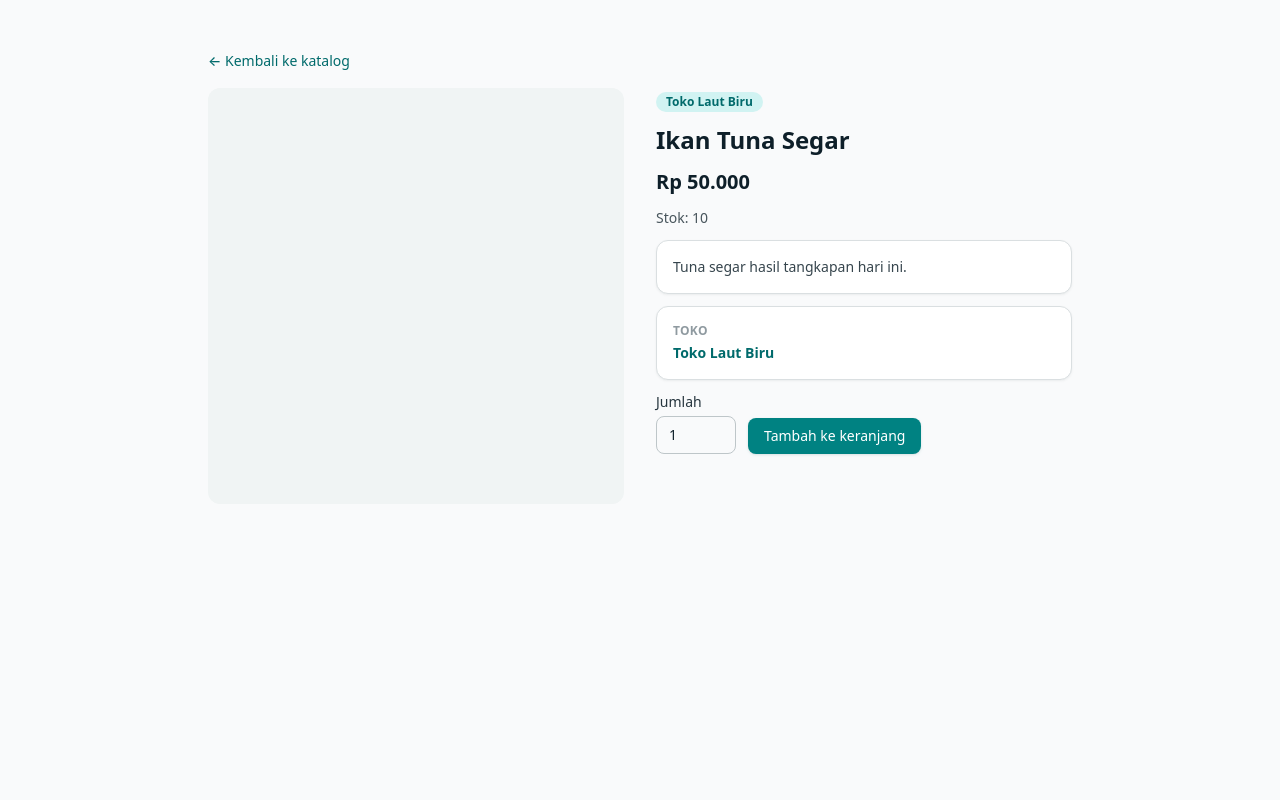
Test: ProductDetail add-to-cart store-conflict dialog › opens the "kosongkan keranjang" modal when adding to cart returns 409 CART_STORE_CONFLICT
Check: the heading "Ikan Tuna Segar" is shown, box top-left (656, 123), bottom-right (850, 156)
Click the button "Tambah ke keranjang" at point(835, 436), box top-left (748, 418), bottom-right (922, 454)
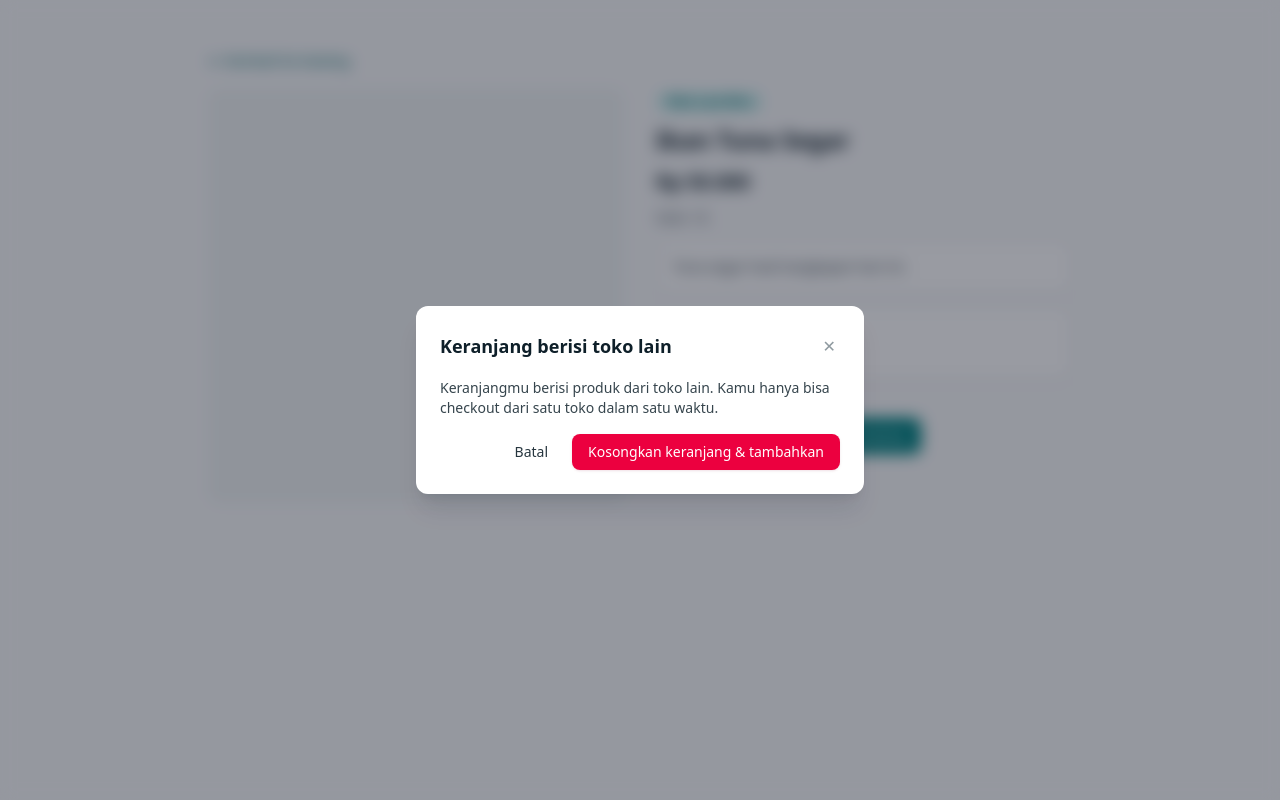
Check: the dialog is shown, box top-left (416, 306), bottom-right (864, 494)
Check: the button "Kosongkan keranjang & tambahkan" is shown, box top-left (572, 434), bottom-right (840, 470)
